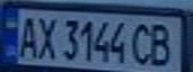1: (75, 17, 96, 62)
3: (57, 15, 81, 61)
4: (109, 18, 133, 65), (93, 17, 112, 63)
A: (12, 12, 42, 60)
B: (145, 20, 181, 69)
C: (127, 19, 157, 67)
X: (33, 12, 60, 61)
